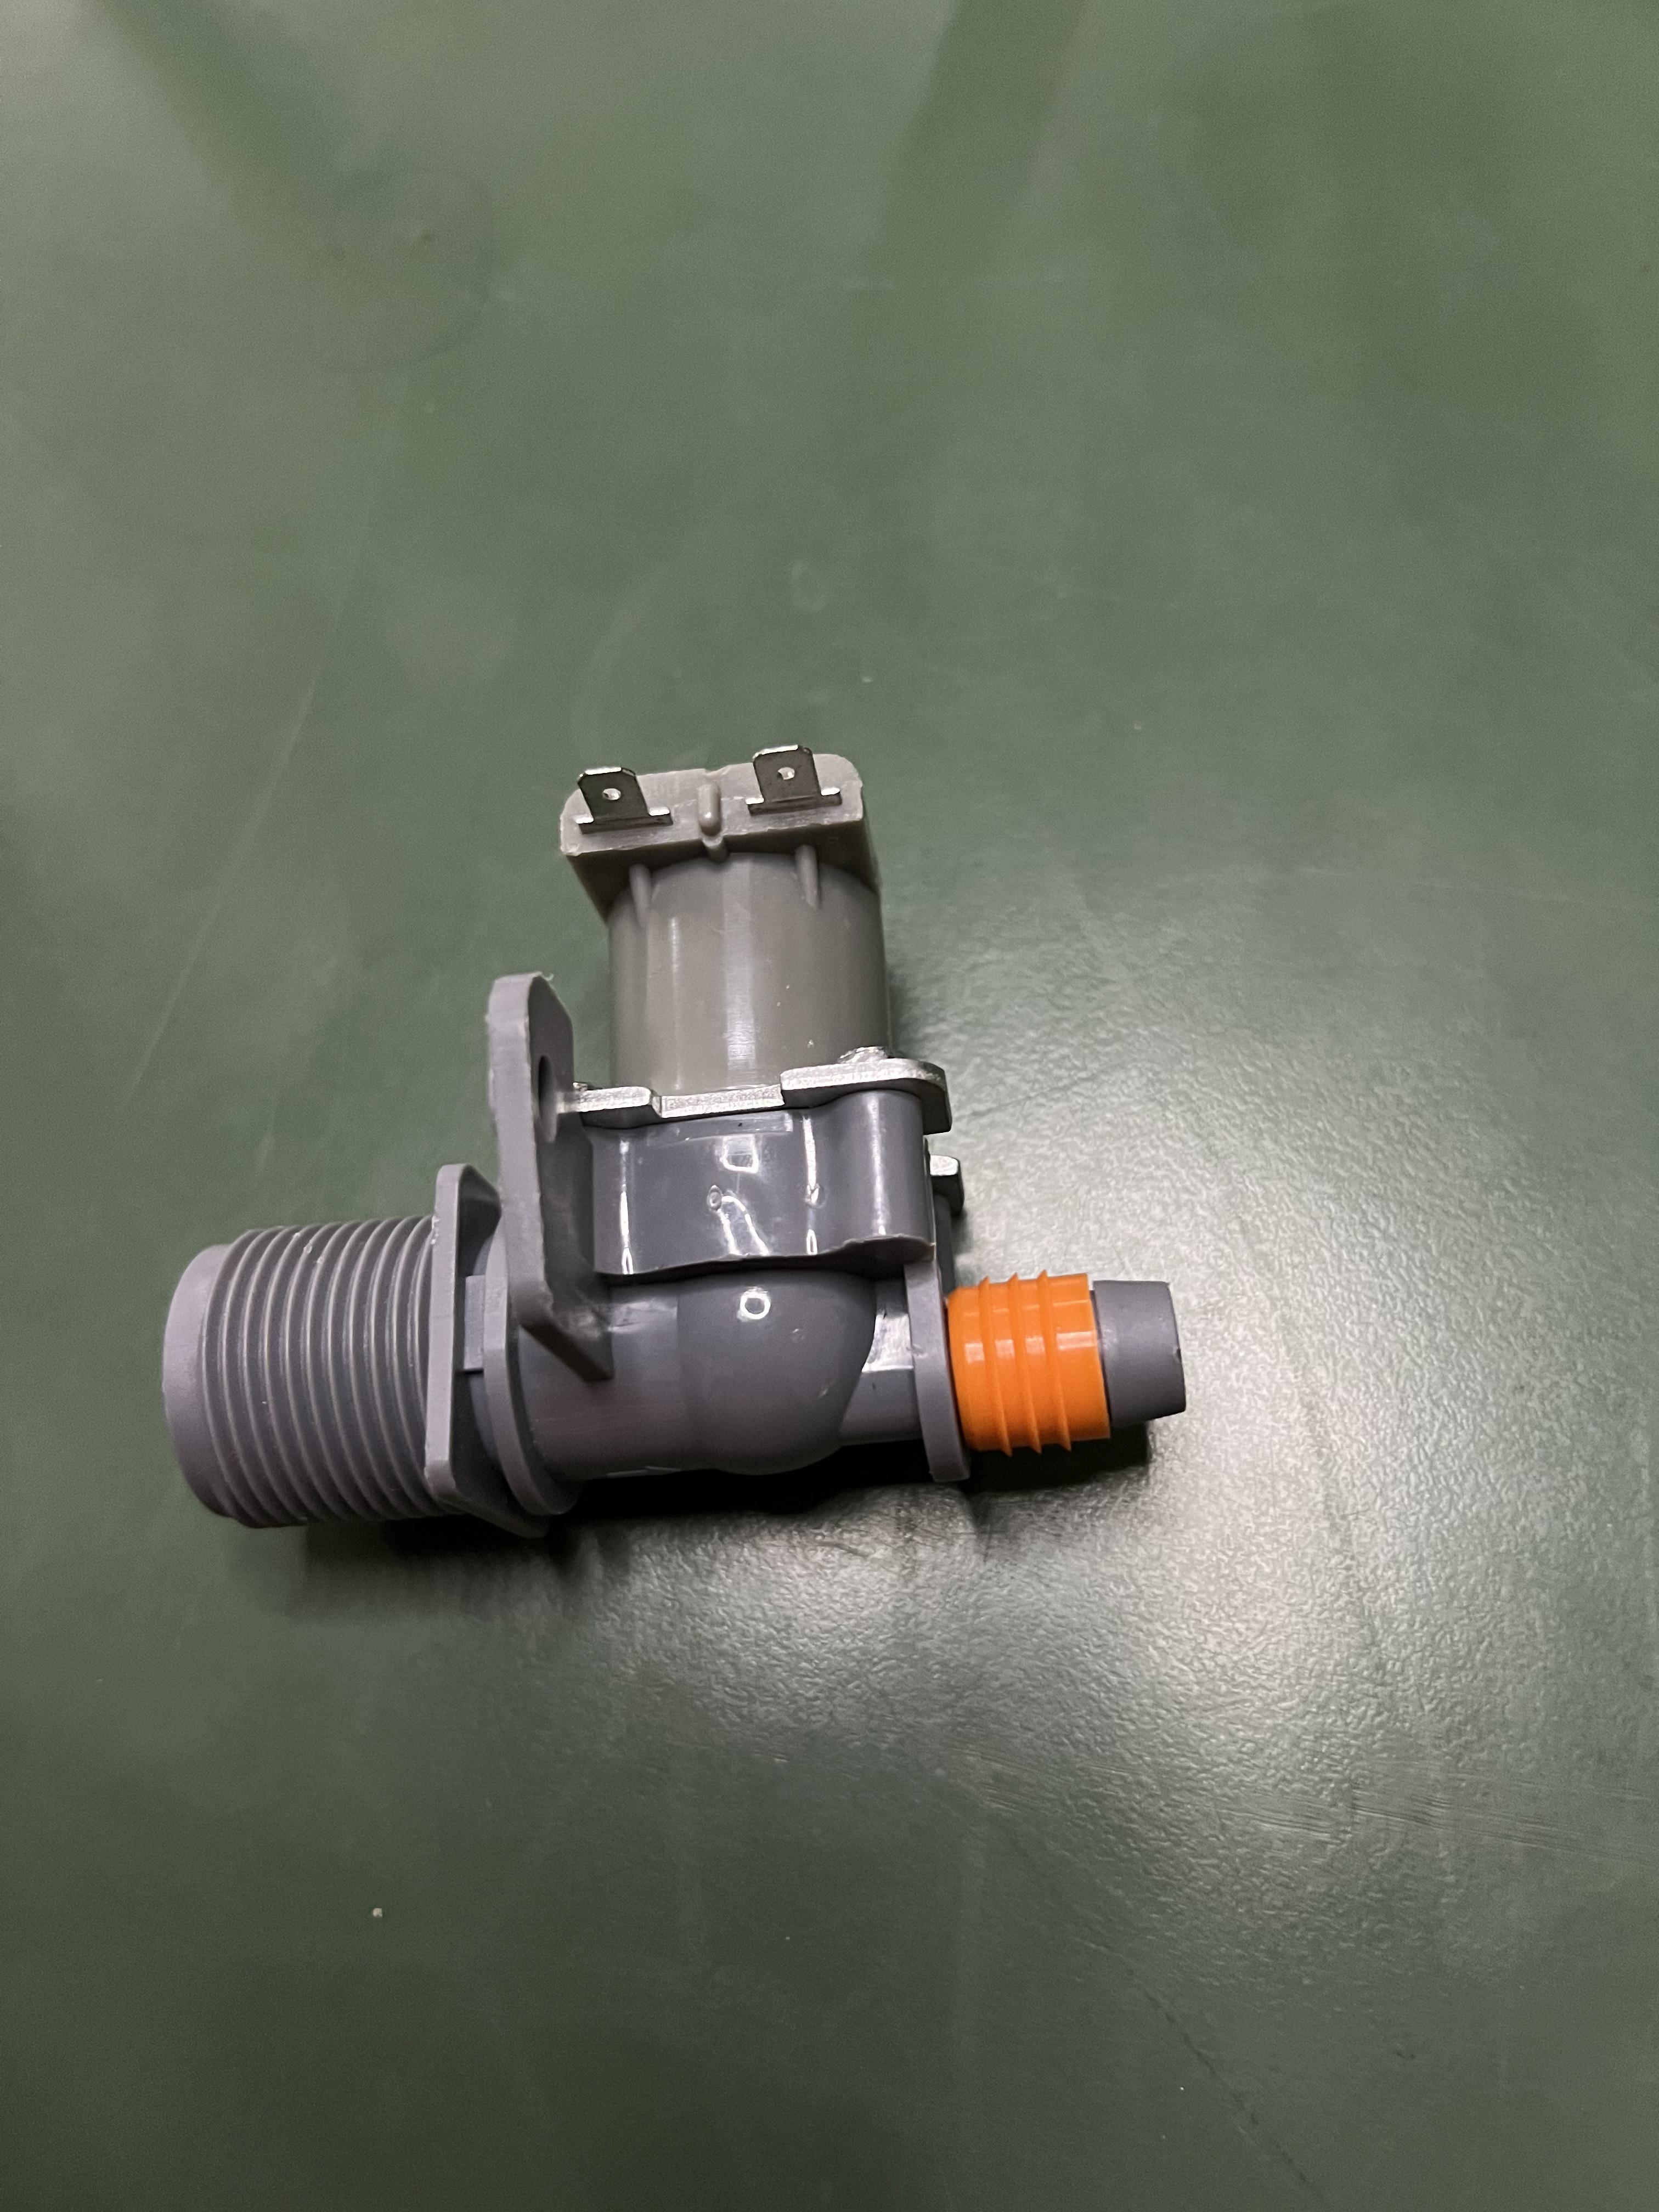inlet_valves: (139, 735, 1236, 1550)
